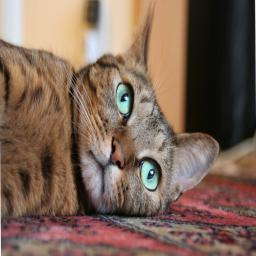catnose: (108, 136, 126, 172)
